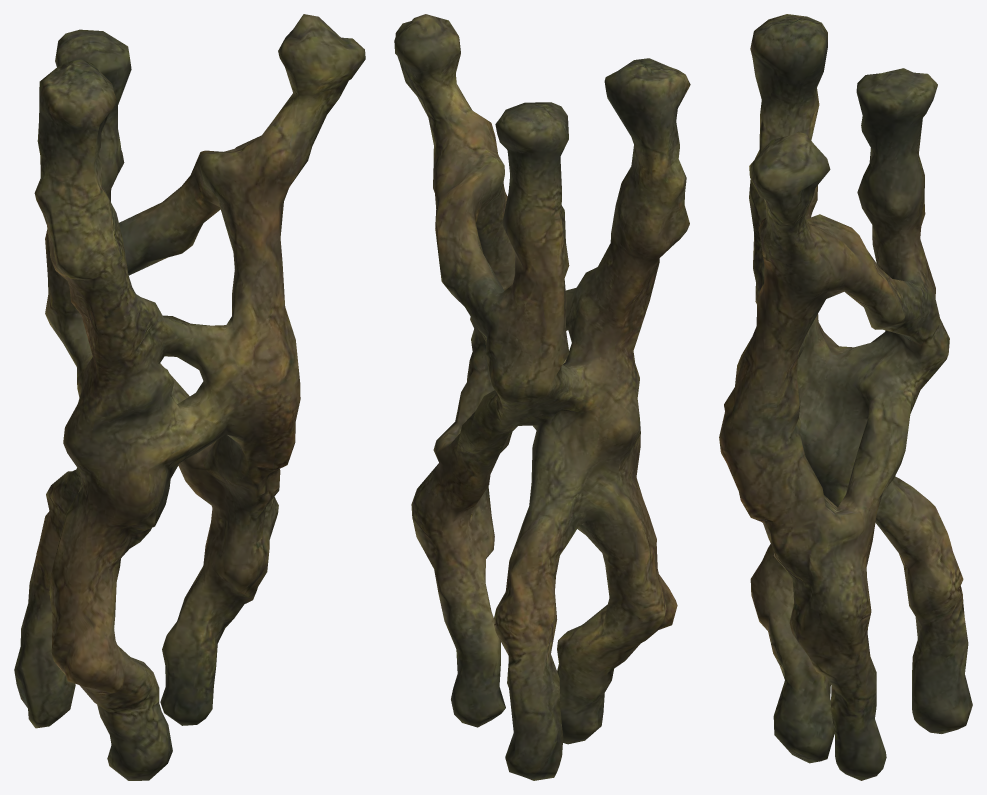
The model's file is Biomass - TC 1-CTr7ZF6J.glb.
3 renders of one model, left to right at view 1: azimuth 30°, elevation 25°; view 2: azimuth 150°, elevation 25°; view 3: azimuth 270°, elevation 25°, orthographic. The views are drawn at different scales.
Visible parts, largest first — view 1: BiomassTC_1; view 2: BiomassTC_1; view 3: BiomassTC_1.
Part boxes in pixels (x1,y1,x2,y2): BiomassTC_1: (14, 14, 365, 780); BiomassTC_1: (394, 14, 690, 780); BiomassTC_1: (719, 14, 972, 780).
Size of the model in its own units: 1.27 by 2.83 by 0.9183.
1 material, 1 textured.
